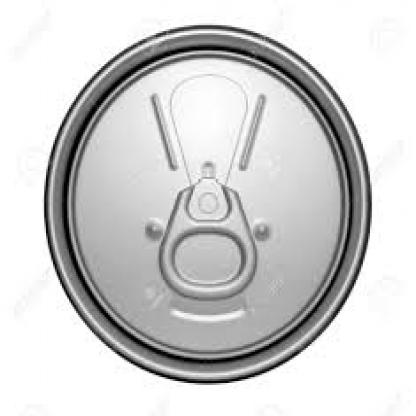Compsot: (41, 23, 372, 381), (156, 173, 258, 297)
